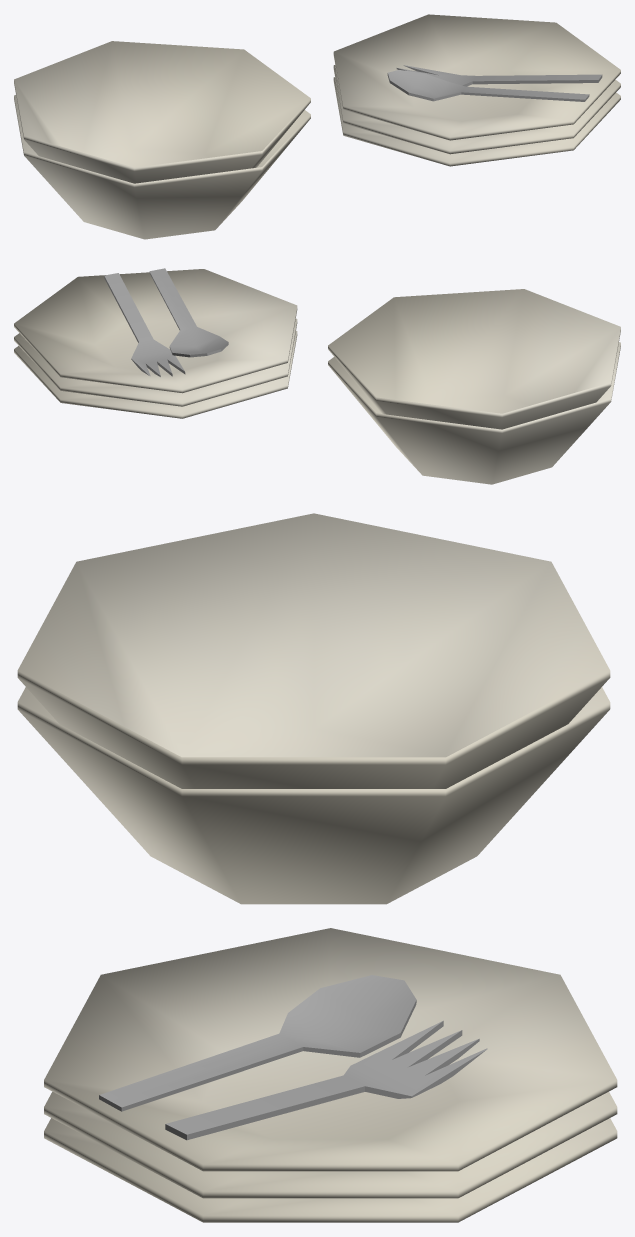
The model's file is SM_Plates&Bowls.fbx.
3 renders of one model, top to bottom at view 1: azimuth 30°, elevation 25°; view 2: azimuth 150°, elevation 25°; view 3: azimuth 270°, elevation 25°, orthographic. The views are drawn at different scales.
Parts seen in each view (by area): view 1: Cylinder.012, Cylinder.004, Cylinder.006, Cylinder.003, Cylinder.001, Plane.001, Plane; view 2: Cylinder.012, Cylinder.004, Cylinder.006, Cylinder.003, Cylinder.001, Plane.001, Plane; view 3: Cylinder.012, Cylinder.004, Cylinder.006, Cylinder.003, Cylinder.001, Plane.001, Plane.
Boxes of the visible parts, box(x1,y1,x2,y2) form: Cylinder.012: box(14, 41, 310, 183); Cylinder.004: box(333, 14, 620, 140); Cylinder.006: box(14, 95, 310, 239); Cylinder.003: box(333, 65, 620, 154); Cylinder.001: box(333, 77, 620, 166); Plane.001: box(387, 70, 589, 101); Plane: box(396, 65, 602, 86); Cylinder.012: box(328, 289, 620, 429); Cylinder.004: box(14, 269, 297, 393); Cylinder.006: box(328, 342, 620, 484); Cylinder.003: box(14, 318, 297, 406); Cylinder.001: box(14, 330, 297, 418); Plane.001: box(149, 268, 228, 357); Plane: box(104, 273, 185, 376); Cylinder.012: box(17, 513, 610, 788); Cylinder.004: box(44, 928, 617, 1171); Cylinder.006: box(17, 687, 610, 904); Cylinder.003: box(44, 1091, 617, 1198); Cylinder.001: box(44, 1118, 617, 1222); Plane.001: box(99, 975, 416, 1111); Plane: box(165, 1020, 487, 1140).
Size of the model in its own units: 0.5219 by 0.0884 by 0.2416.
